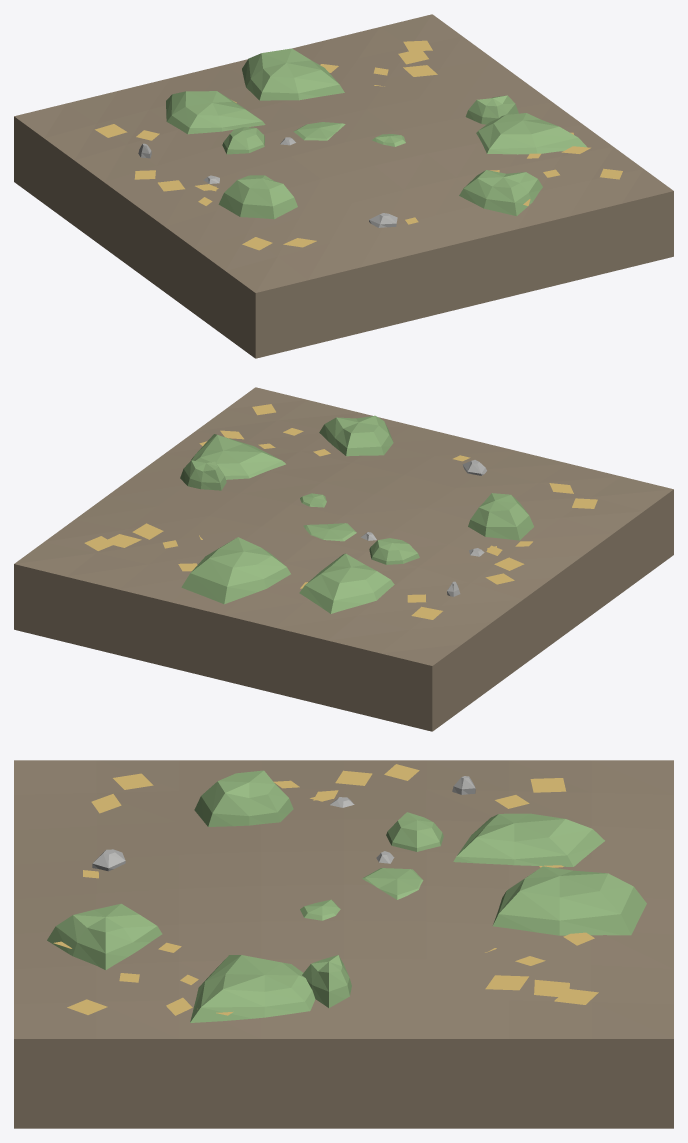
The model's file is forest-floor-tile.glb.
3 views of the same model, one above another, from view 1: azimuth 30°, elevation 25°; view 2: azimuth 150°, elevation 25°; view 3: azimuth 270°, elevation 25° (orthographic). The views are drawn at different scales.
Parts seen in each view (by area): view 1: forest-floor-tile; view 2: forest-floor-tile; view 3: forest-floor-tile.
Boxes of the visible parts, x1,y1,x2,y2 form: forest-floor-tile: (14,14,673,358); forest-floor-tile: (14,387,673,731); forest-floor-tile: (14,760,673,1128).
Size of the model in its own units: 2 by 0.4326 by 2.
